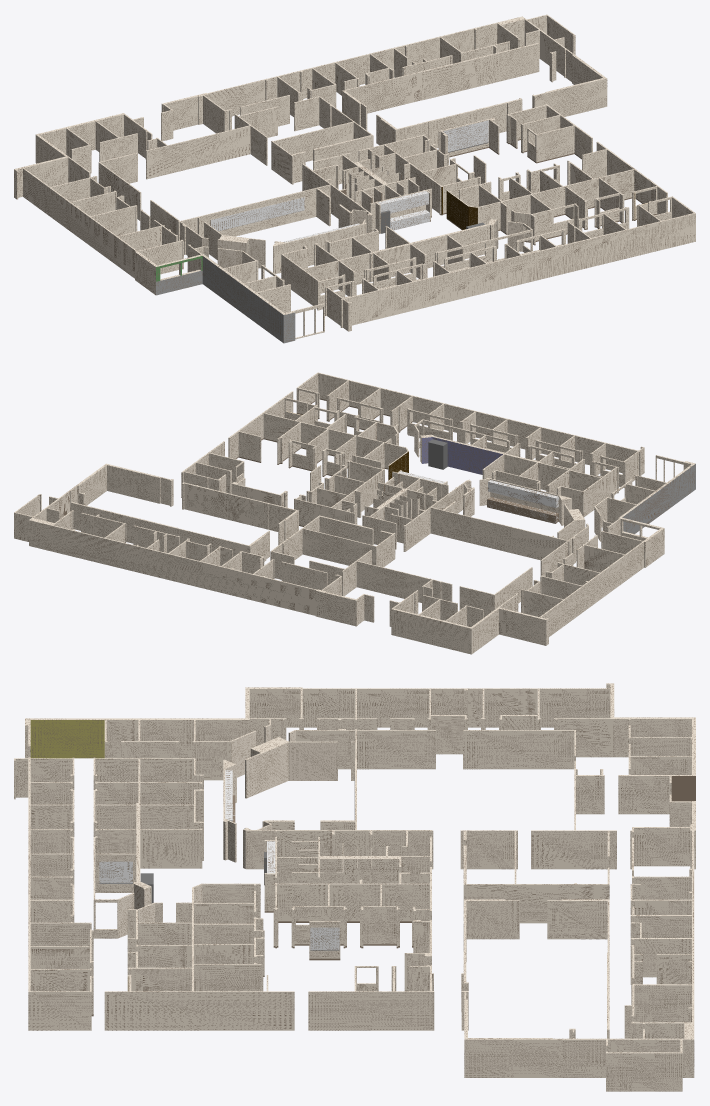
File: willowgarage.dae
3 renders of one model, top to bottom at view 1: azimuth 30°, elevation 25°; view 2: azimuth 150°, elevation 25°; view 3: azimuth 270°, elevation 25°, orthographic. The views are drawn at different scales.
Parts seen in each view (by area): view 1: SketchUp (×24); view 2: SketchUp (×23), component_0; view 3: SketchUp (×21).
Part boxes in pixels (x1,y1,x2,y2): SketchUp (×24): (14,14,695,343); SketchUp (×23): (14,372,695,654); component_0: (428,439,447,469); SketchUp (×21): (14,683,695,1091).
Bounding box in the file's own units: 2308 × 1798 × 112.
